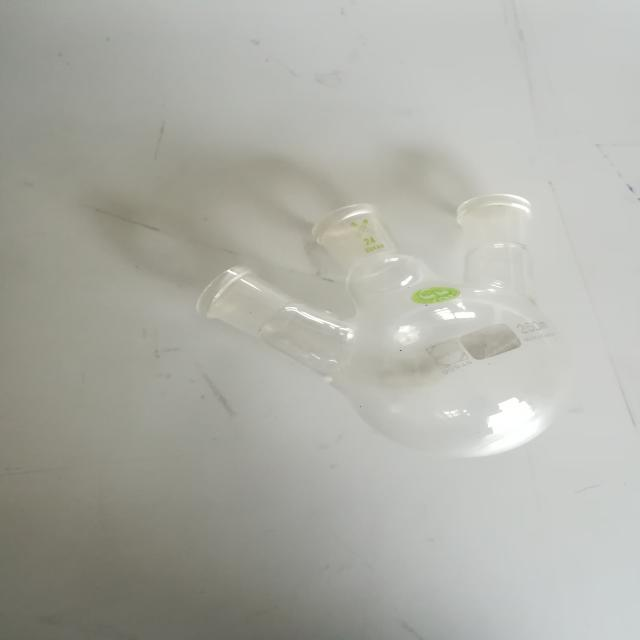Round_Bottom_Flask_Borosilicate_Glass_3_Neck: (155, 176, 619, 509)
